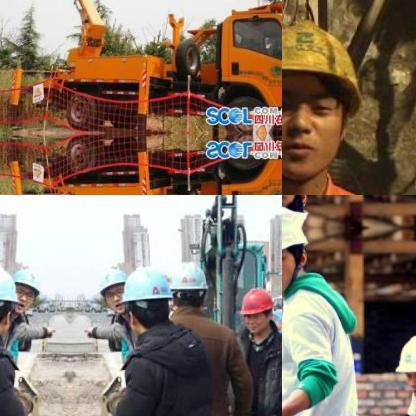Helmet: (282, 11, 373, 194), (119, 264, 170, 326), (165, 253, 207, 319), (236, 281, 274, 335), (282, 226, 310, 291), (94, 260, 126, 312), (10, 260, 42, 312), (394, 326, 415, 399), (0, 263, 18, 329)
